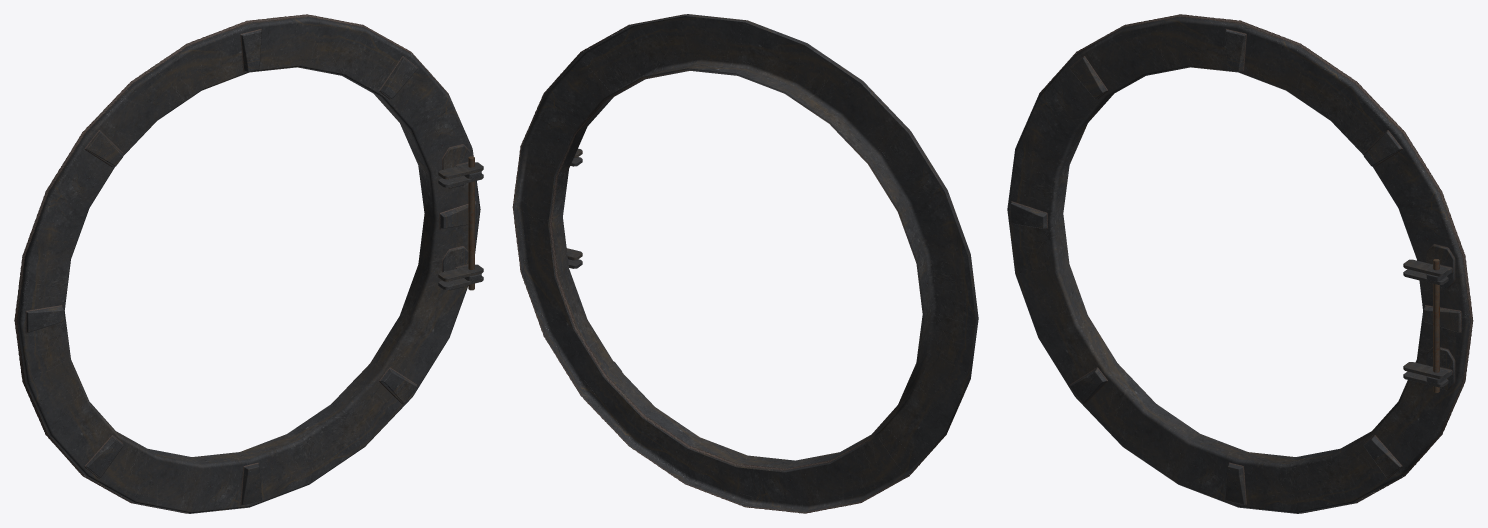
File: SM_Sewer_Halo_Black_A.fbx
3 views of the same model, side by side, from view 1: azimuth 30°, elevation 25°; view 2: azimuth 150°, elevation 25°; view 3: azimuth 330°, elevation 25° (orthographic).
Visible parts, largest first — view 1: SM_Sewer_Halo_Black_A; view 2: SM_Sewer_Halo_Black_A; view 3: SM_Sewer_Halo_Black_A.
Boxes of the visible parts, x1,y1,x2,y2 form: SM_Sewer_Halo_Black_A: (14,14,483,513); SM_Sewer_Halo_Black_A: (512,14,978,513); SM_Sewer_Halo_Black_A: (1007,14,1473,513).
Size of the model in its own units: 249 by 249 by 26.06.
